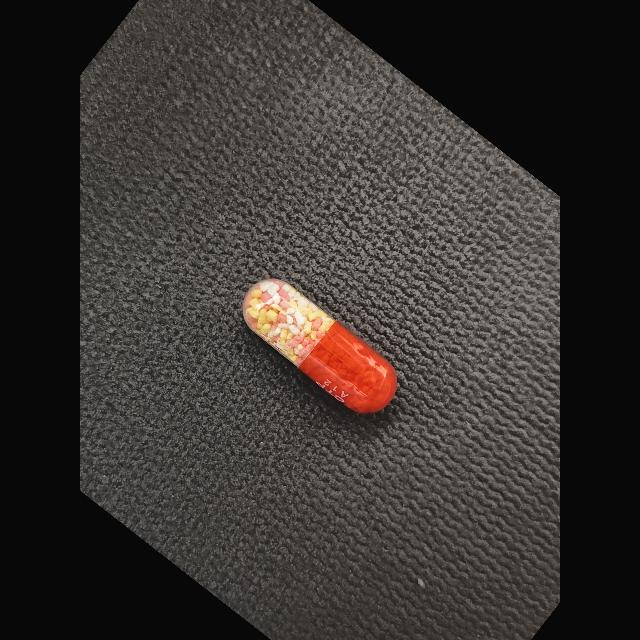Intact Capsule: (242, 279, 397, 414)
